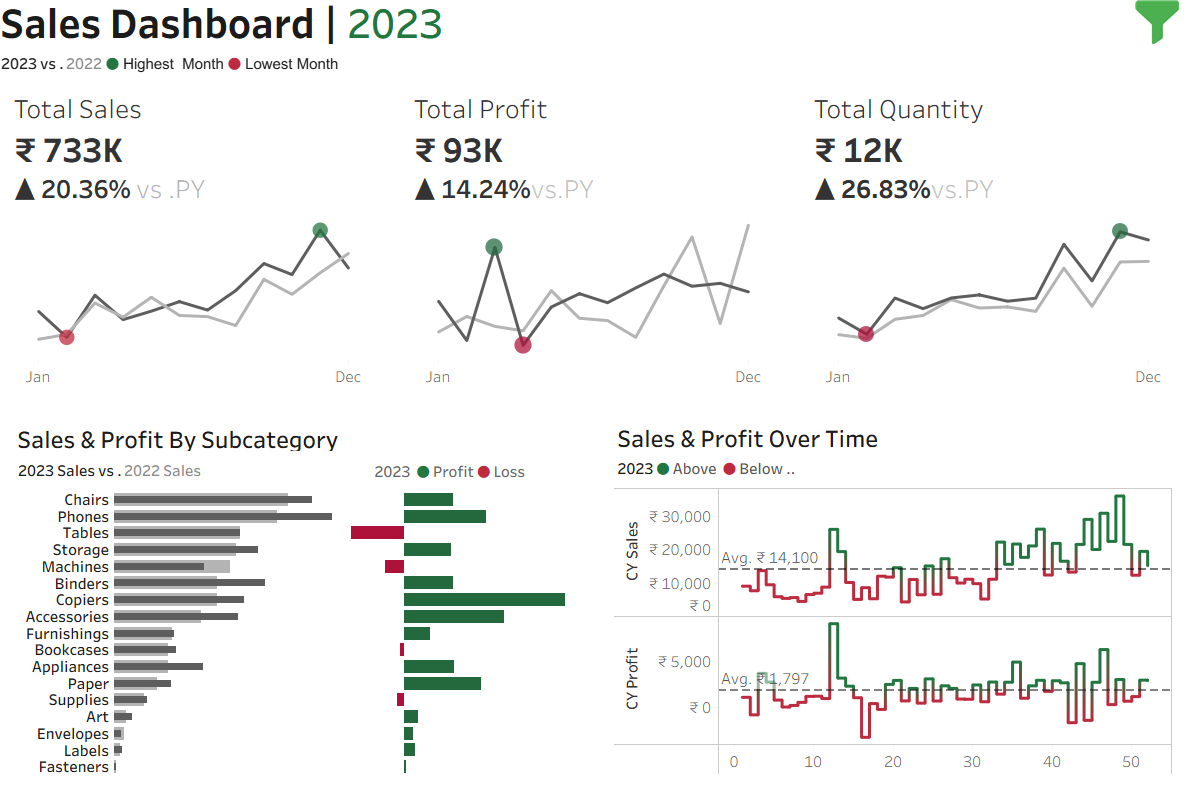

The page's visual inventory and layout, read from the dashboard file:
{"tool":"tableau","page":{"name":"Sales Dashboard ","canvas":[1200,800],"ordinal":0},"visuals":[{"type":"text","box":[0,0,1138,52]},{"type":"dashboard-object","box":[1138,0,52,52]},{"type":"worksheet","title":"legend (2)","mark":"Automatic","box":[0,52,1200,32]},{"type":"worksheet","title":"Kpi Sales","mark":"Automatic","rows":["Calculation_1775262737729585156"],"cols":["Order Date"],"box":[0,84,400,326]},{"type":"worksheet","title":"Kpi Profit ","mark":"Automatic","rows":["Calculation_1775262737756033036"],"cols":["Order Date"],"box":[400,84,400,326]},{"type":"worksheet","title":"Kpi Quantity","mark":"Automatic","rows":["Calculation_1775262738147459093"],"cols":["Order Date"],"box":[800,84,400,326]},{"type":"text","box":[17,427,566,32]},{"type":"text","box":[617,427,566,29.3]},{"type":"text","box":[617,456.3,566,32]},{"type":"worksheet","title":"legend","mark":"Automatic","box":[17,459,357,32]},{"type":"text","box":[374,459,209,32]},{"type":"worksheet","title":"Weekly Trends","mark":"Automatic","rows":["Calculation_1775262737713401856","Calculation_1775262737750265865"],"cols":["Order Date"],"box":[617,488.3,566,294.7]},{"type":"worksheet","title":"Subcategor Comperision","mark":"Bar","rows":["Sub-Category"],"cols":["Calculation_1775262737714339841","Calculation_1775262737713401856","Calculation_1775262737750265865"],"box":[17,491,566,292]}]}

Visuals, with their boxes in screenshot pixels (x1, y1, x2, y2), scaled from the page's 1200x800 canvas onto the 1195x807 screenshot:
text: [0,0,1133,52]
dashboard-object: [1133,0,1185,52]
"legend (2)" worksheet: [0,52,1194,85]
"Kpi Sales" worksheet: [0,85,398,414]
"Kpi Profit " worksheet: [398,85,797,414]
"Kpi Quantity" worksheet: [797,85,1194,414]
text: [17,431,581,463]
text: [614,431,1178,460]
text: [614,460,1178,493]
"legend" worksheet: [17,463,372,495]
text: [372,463,581,495]
"Weekly Trends" worksheet: [614,493,1178,790]
"Subcategor Comperision" worksheet (Bar marks): [17,495,581,790]
